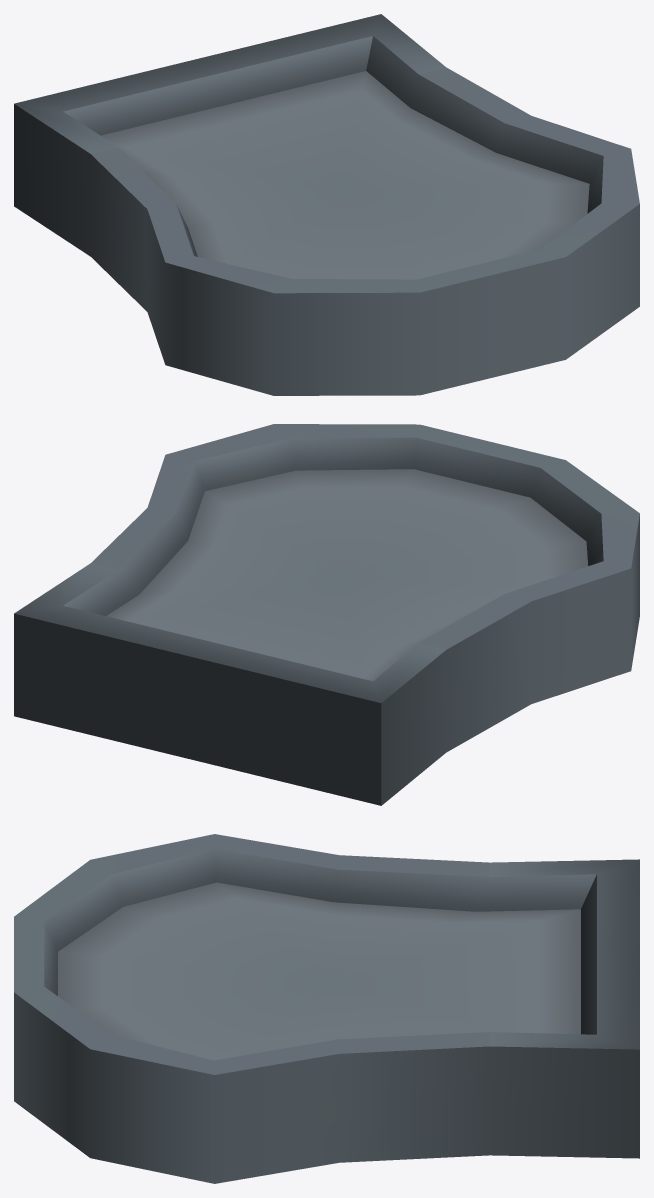
The model's file is Thombstone_Item.fbx.
3 renders of one model, top to bottom at view 1: azimuth 30°, elevation 25°; view 2: azimuth 150°, elevation 25°; view 3: azimuth 270°, elevation 25°, orthographic. The views are drawn at different scales.
Parts seen in each view (by area): view 1: Thombstone_Item; view 2: Thombstone_Item; view 3: Thombstone_Item.
Part boxes in pixels (x1,y1,x2,y2): Thombstone_Item: (14,14,639,395); Thombstone_Item: (14,424,639,805); Thombstone_Item: (14,834,639,1183).
Size of the model in its own units: 0.9435 by 0.1988 by 1.04.
